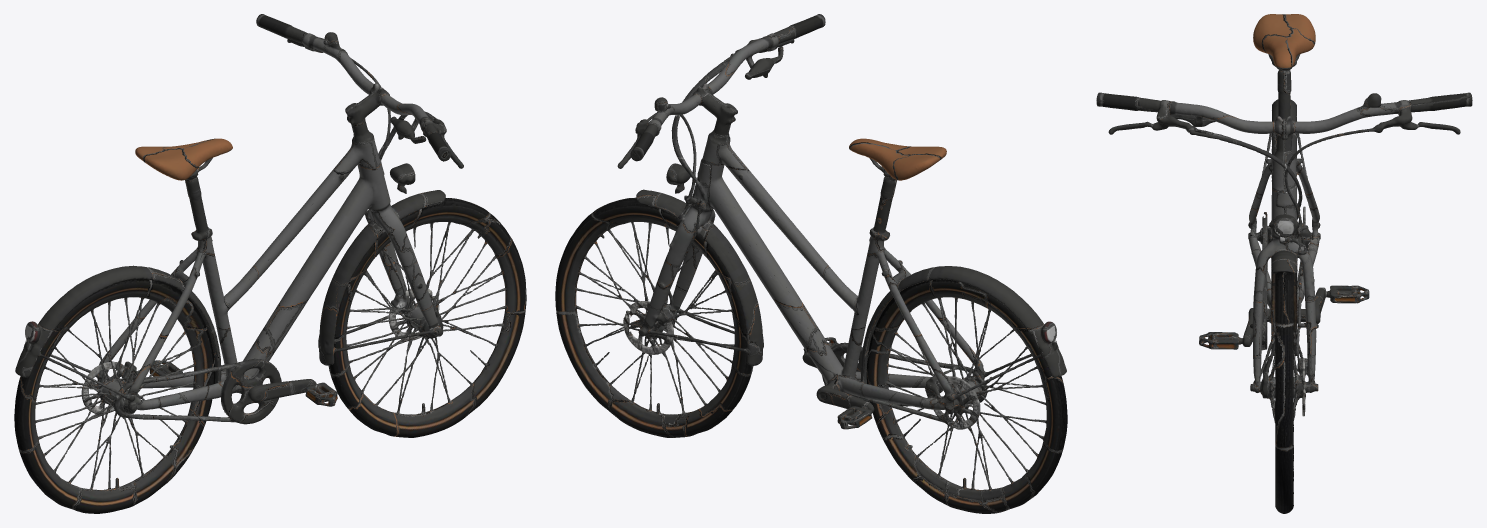
Rendered from notebook.glb.
The picture shows the model from 3 angles, left to right: view 1: azimuth 30°, elevation 25°; view 2: azimuth 150°, elevation 25°; view 3: azimuth 270°, elevation 25°; orthographic projection.
Visible parts, largest first — view 1: tripo_node_de350f68-f921-4c8c-8dce-6970172588a4; view 2: tripo_node_de350f68-f921-4c8c-8dce-6970172588a4; view 3: tripo_node_de350f68-f921-4c8c-8dce-6970172588a4.
Part boxes in pixels (x1=…): tripo_node_de350f68-f921-4c8c-8dce-6970172588a4: x1=14, y1=14, x2=526, y2=513; tripo_node_de350f68-f921-4c8c-8dce-6970172588a4: x1=555, y1=14, x2=1067, y2=513; tripo_node_de350f68-f921-4c8c-8dce-6970172588a4: x1=1096, y1=14, x2=1472, y2=513.
Size of the model in its own units: 1.6 by 1.14 by 1.01.
1 material, 1 textured.
